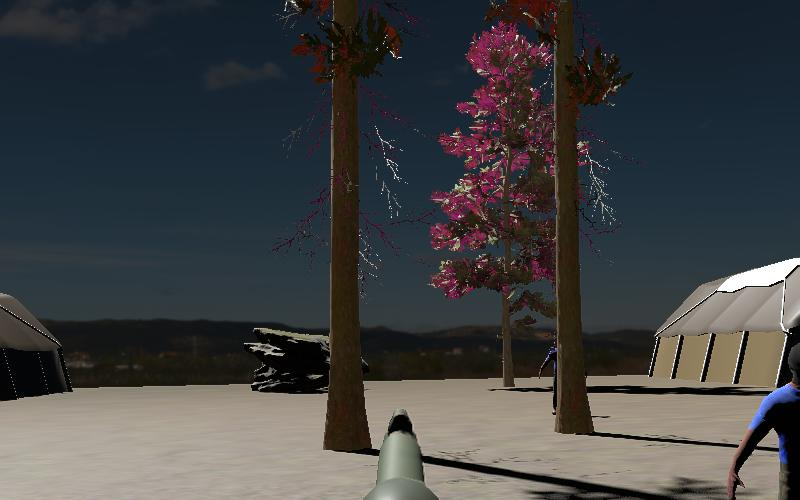Human: (722, 342, 800, 499)
